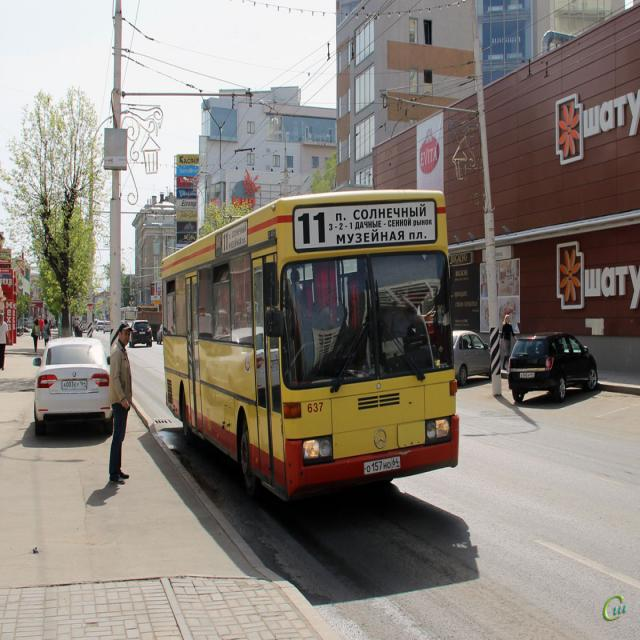number-of-bus: (298, 207, 329, 250)
